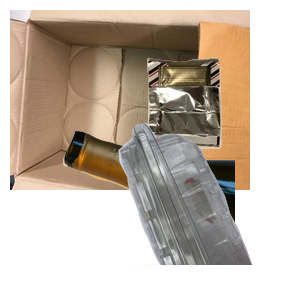cardboard: (10, 10, 250, 190)
glass: (60, 128, 300, 300)
plastic: (71, 120, 300, 300)
trash: (144, 55, 300, 197)
